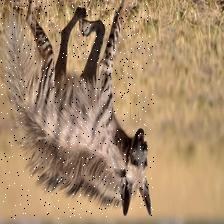hyena: (0, 0, 154, 219)
